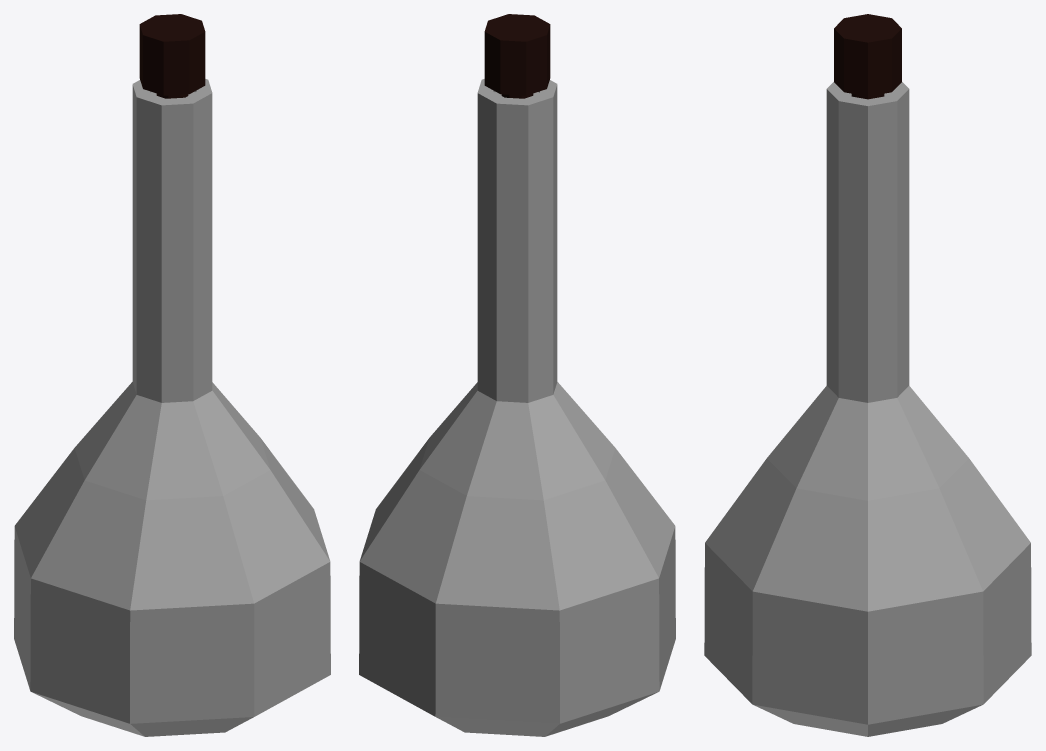
The model's file is Potion2.obj.
The picture shows the model from 3 angles, left to right: view 1: azimuth 30°, elevation 25°; view 2: azimuth 150°, elevation 25°; view 3: azimuth 270°, elevation 25°; orthographic projection.
Parts seen in each view (by area): view 1: Potion2_Cylinder.000; view 2: Potion2_Cylinder.000; view 3: Potion2_Cylinder.000.
Boxes of the visible parts, left/top/right/bottom form: Potion2_Cylinder.000: left=14, top=14, right=330, bottom=736; Potion2_Cylinder.000: left=359, top=14, right=675, bottom=736; Potion2_Cylinder.000: left=704, top=14, right=1031, bottom=736.
Size of the model in its own units: 0.4769 by 1.07 by 0.4769.
